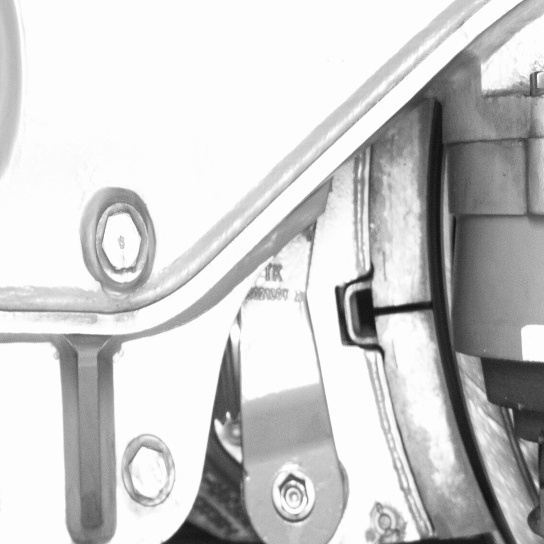KnifeSwitch: (370, 139, 518, 542)
